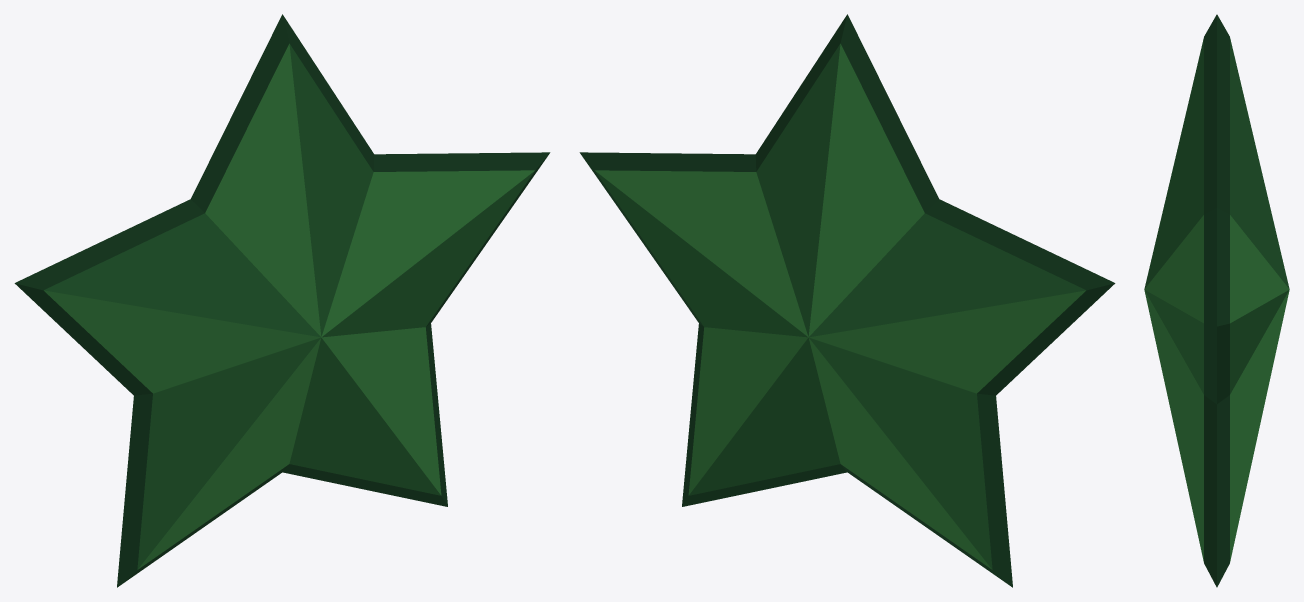
File: Star.glb
3 views of the same model, side by side, from view 1: azimuth 30°, elevation 25°; view 2: azimuth 150°, elevation 25°; view 3: azimuth 270°, elevation 25° (orthographic). The views are drawn at different scales.
Parts seen in each view (by area): view 1: Circle; view 2: Circle; view 3: Circle.
Part boxes in pixels (x1,y1,x2,y2): Circle: (14, 14, 550, 587); Circle: (579, 14, 1115, 587); Circle: (1144, 14, 1289, 587).
Bounding box in the file's own units: 1.7 × 1.62 × 0.4284.
Materials: 1 (1 with a texture image).
